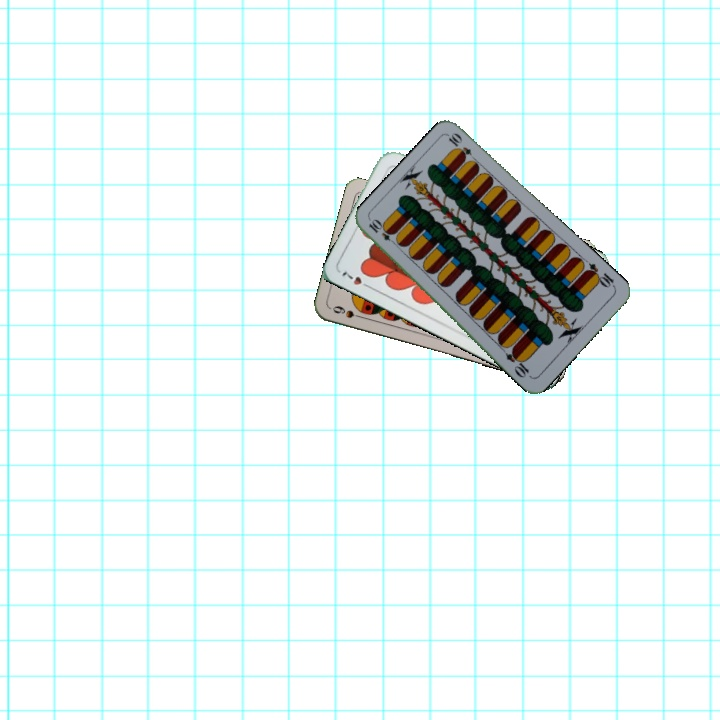E10: (581, 259, 618, 291), (365, 216, 400, 248)
H7: (337, 265, 375, 291)
S9: (328, 302, 367, 321)
